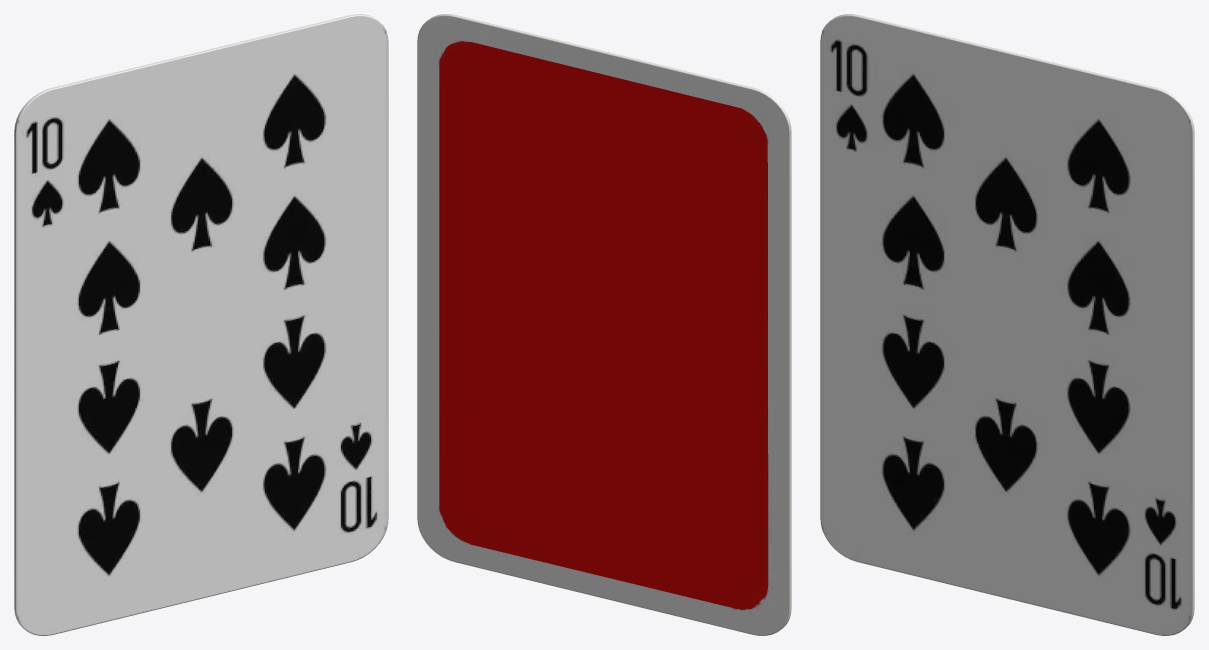
File: spades_10.glb
The picture shows the model from 3 angles, left to right: view 1: azimuth 30°, elevation 25°; view 2: azimuth 150°, elevation 25°; view 3: azimuth 330°, elevation 25°; orthographic projection.
Parts seen in each view (by area): view 1: defaultMaterial.002; view 2: defaultMaterial.002; view 3: defaultMaterial.002.
Boxes of the visible parts, bbox=[...] form: defaultMaterial.002: bbox=[14, 14, 388, 635]; defaultMaterial.002: bbox=[417, 14, 791, 635]; defaultMaterial.002: bbox=[820, 14, 1194, 635].
Bounding box in the file's own units: 0.1408 × 0.1972 × 0.00111.
Materials: 1 (1 with a texture image).
